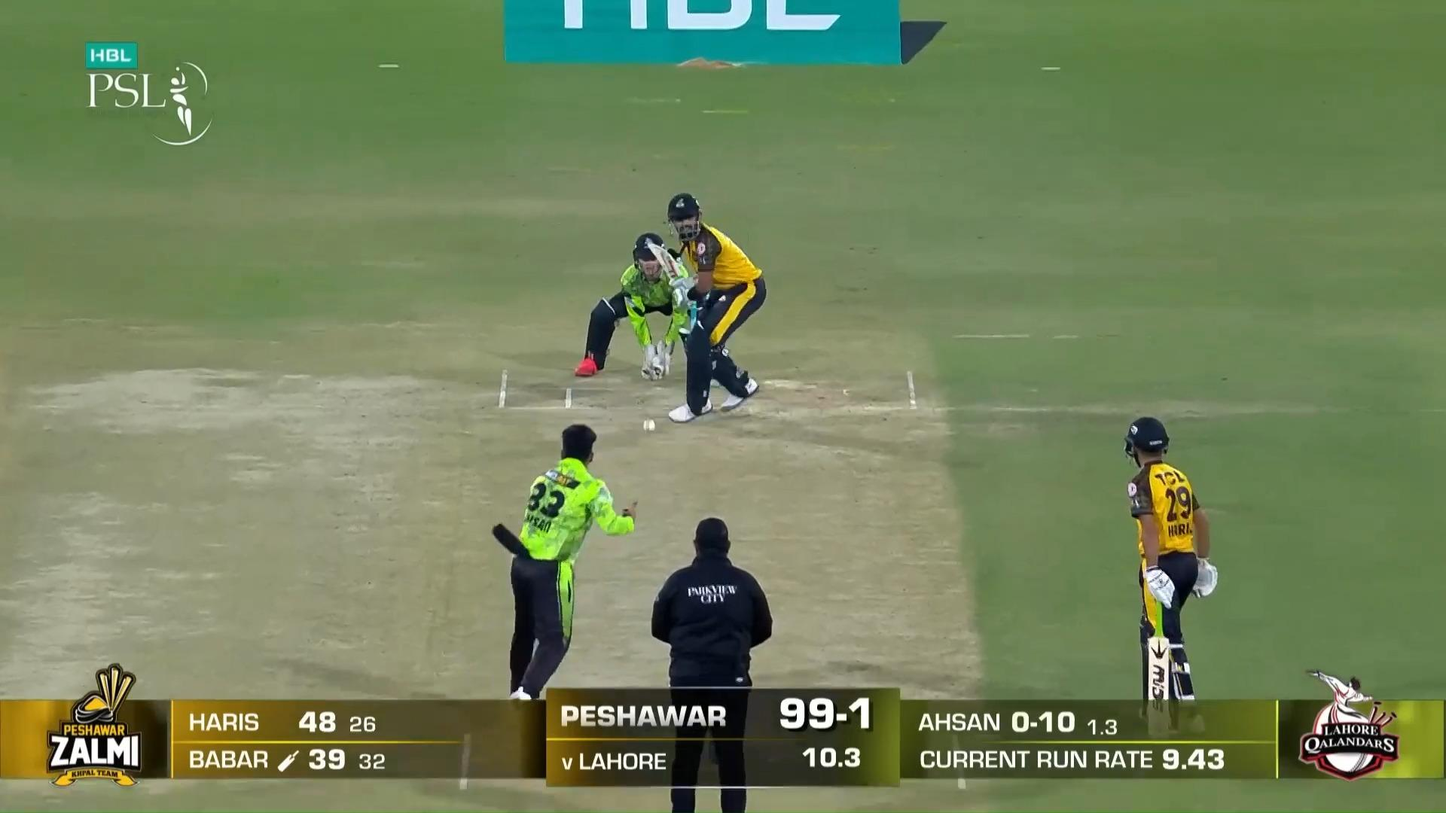batsman: (648, 192, 767, 424)
